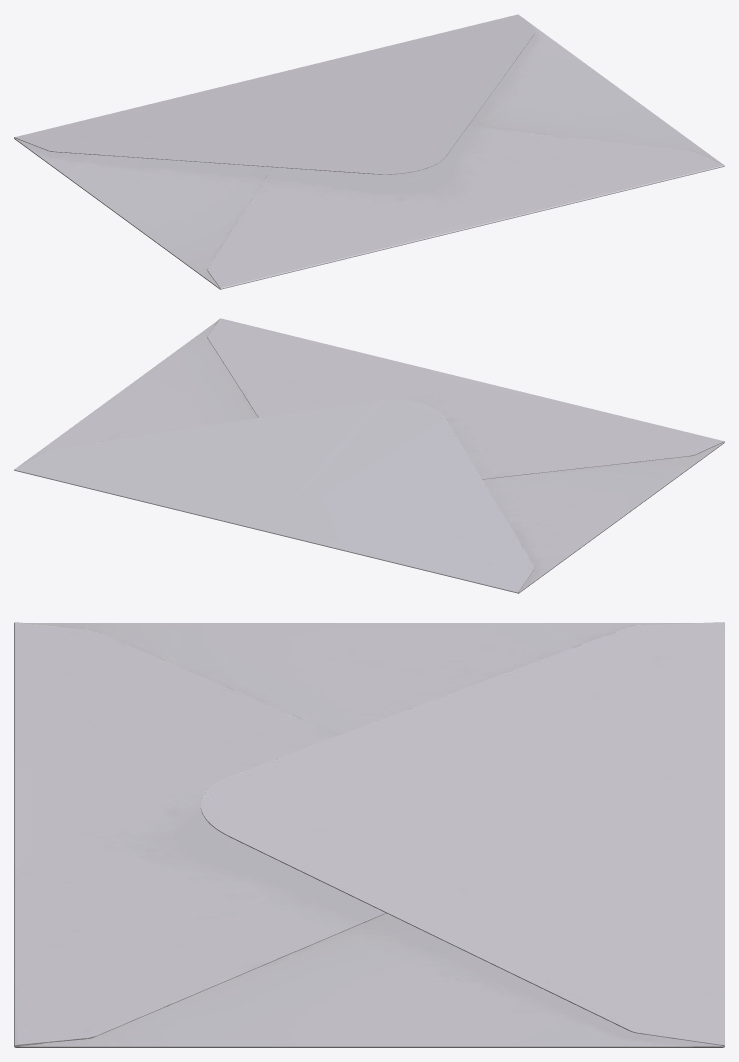
Rendered from envelope.glb.
3 renders of one model, top to bottom at view 1: azimuth 30°, elevation 25°; view 2: azimuth 150°, elevation 25°; view 3: azimuth 270°, elevation 25°, orthographic. The views are drawn at different scales.
Visible parts, largest first — view 1: envelope_base_realistic_lod0; view 2: envelope_base_realistic_lod0; view 3: envelope_base_realistic_lod0.
Boxes of the visible parts, x1,y1,x2,y2 form: envelope_base_realistic_lod0: (14,14,724,289); envelope_base_realistic_lod0: (14,318,724,593); envelope_base_realistic_lod0: (14,622,724,1047).
Bounding box in the file's own units: 0.2294 × 0.00798 × 0.1627.
1 material, 1 textured.
